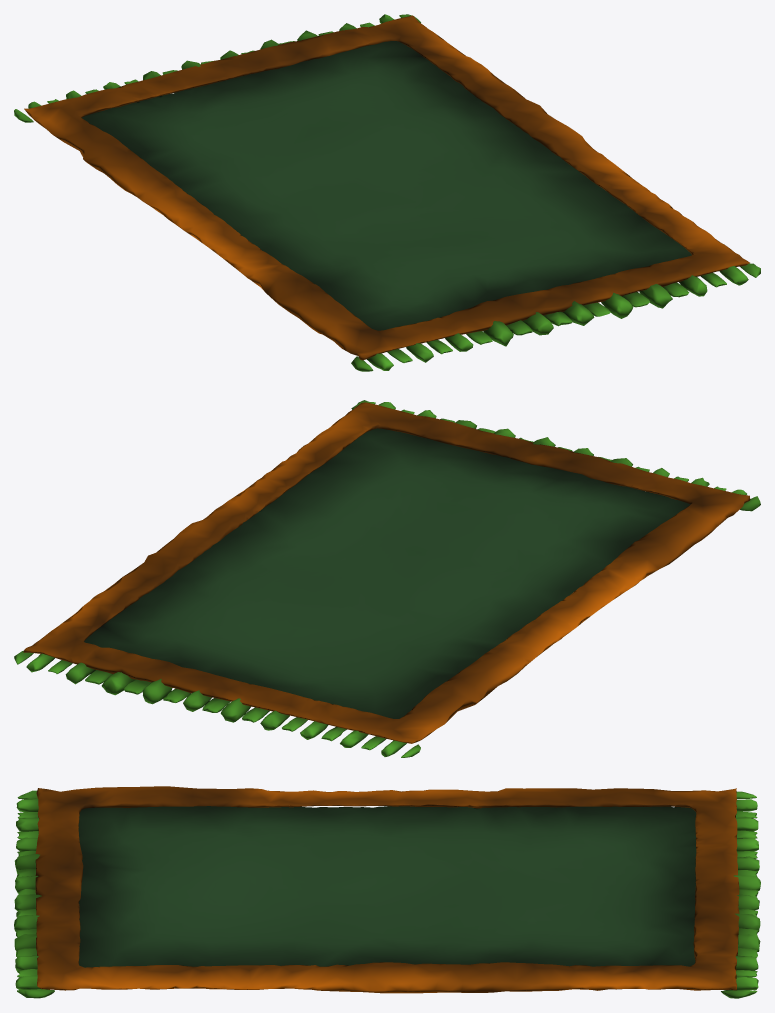
Rendered from msh_Carpet_01.fbx.
3 renders of one model, top to bottom at view 1: azimuth 30°, elevation 25°; view 2: azimuth 150°, elevation 25°; view 3: azimuth 270°, elevation 25°, orthographic. The views are drawn at different scales.
Visible parts, largest first — view 1: carpet; view 2: carpet; view 3: carpet.
Part boxes in pixels (bbox=[...]): carpet: bbox=[14, 14, 760, 371]; carpet: bbox=[14, 400, 760, 757]; carpet: bbox=[14, 786, 760, 998].
Size of the model in its own units: 2.06 by 0.1172 by 3.19.
